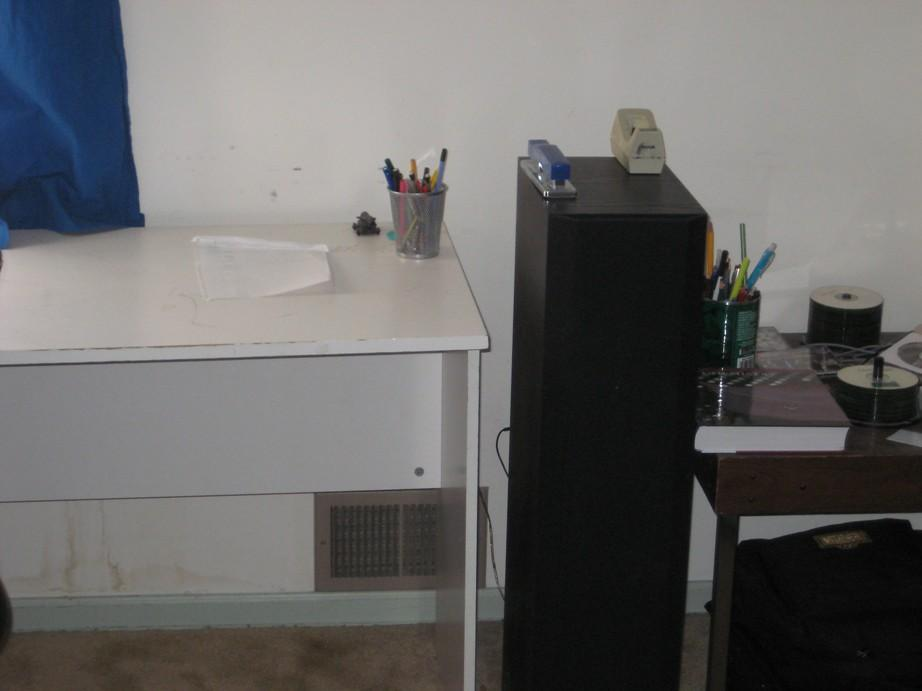computer: (502, 154, 709, 690)
